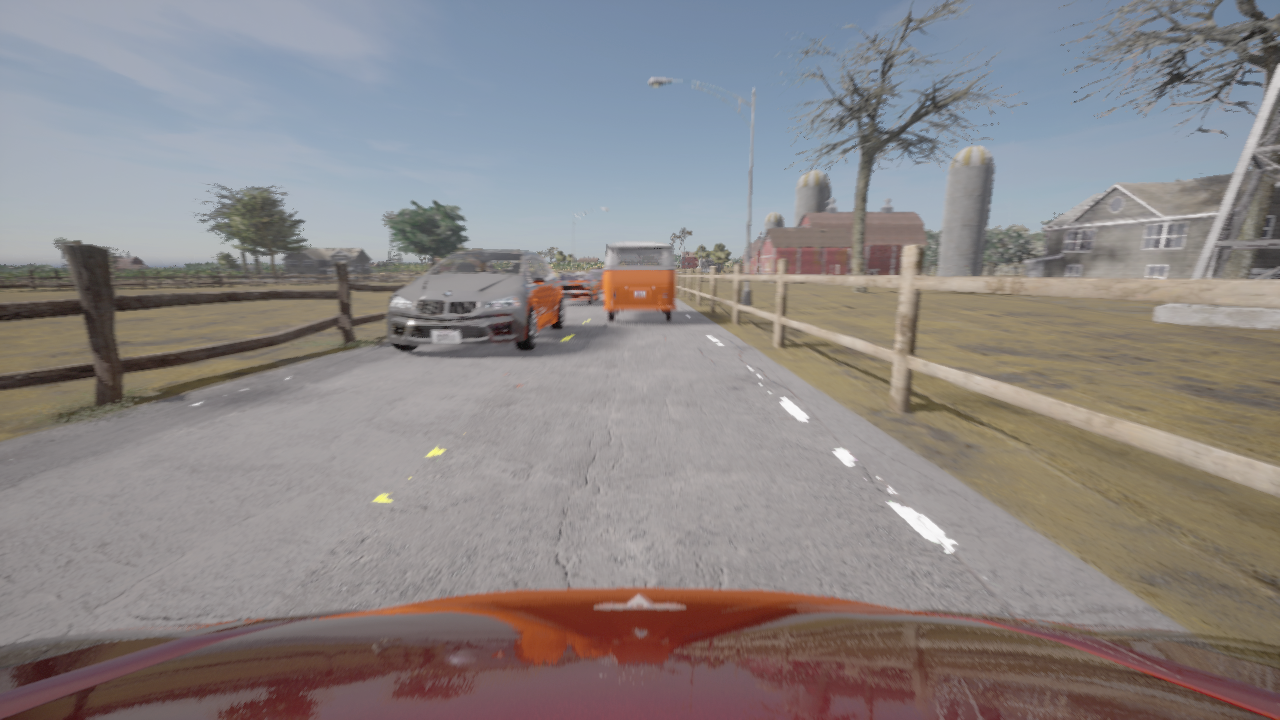cyclist: (0, 588, 1279, 719), (386, 250, 564, 350), (603, 242, 676, 321), (556, 272, 600, 304), (583, 268, 603, 289)
